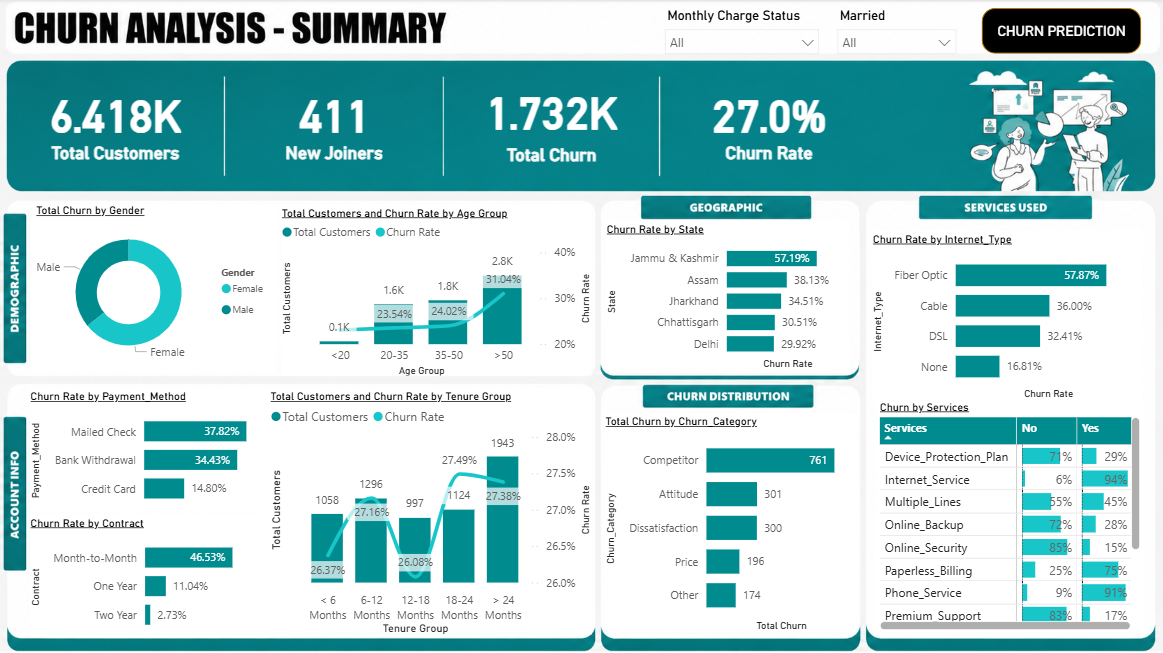

Layout of this report page (visuals, bound fields, positions):
{"tool":"powerbi","page":{"name":"Summary","canvas":[1280,720],"ordinal":0},"visuals":[{"type":"image","box":[113,316,66,56],"z":0},{"type":"cardVisual","fields":{"Data":["tbl_Measures.Total Customers"]},"box":[17,66,225,150],"z":1000},{"type":"cardVisual","fields":{"Data":["tbl_Measures.New Joiners"]},"box":[257,66,225,150],"z":2000},{"type":"cardVisual","fields":{"Data":["tbl_Measures.Total Churn"]},"box":[496,66,225,150],"z":3000},{"type":"cardVisual","fields":{"Data":["tbl_Measures.Churn Rate"]},"box":[734,66,225,150],"z":4000},{"type":"donutChart","fields":{"Category":["prod_Churn.Gender"],"Y":["tbl_Measures.Total Churn"]},"box":[37,226.4,269,185],"z":5000},{"type":"lineStackedColumnComboChart","fields":{"Category":["mapping_Agegrp.Age Group"],"Y":["tbl_Measures.Total Customers"],"Y2":["tbl_Measures.Churn Rate"]},"box":[311.5,226,340.3,188],"z":6000},{"type":"clusteredBarChart","fields":{"Category":["prod_Churn.Payment_Method"],"Y":["tbl_Measures.Churn Rate"]},"box":[35,428,263.3,135],"z":7000},{"type":"clusteredBarChart","fields":{"Category":["prod_Churn.Contract"],"Y":["tbl_Measures.Churn Rate"]},"box":[35,567,263.3,135],"z":8000},{"type":"lineStackedColumnComboChart","fields":{"Category":["mapping_TenureGrp.Tenure Group"],"Y":["tbl_Measures.Total Customers"],"Y2":["tbl_Measures.Churn Rate"]},"box":[299.1,428.1,352.7,270.3],"z":9000},{"type":"barChart","fields":{"Category":["prod_Churn.State"],"Y":["tbl_Measures.Churn Rate"]},"box":[668.3,244.3,266.2,163.3],"z":10000},{"type":"clusteredBarChart","fields":{"Category":["prod_Churn.Churn_Category"],"Y":["tbl_Measures.Total Churn"]},"box":[667,455.6,275.8,238.8],"z":11000},{"type":"barChart","fields":{"Category":["prod_Churn.Internet_Type"],"Y":["tbl_Measures.Churn Rate"]},"box":[960.6,255.2,295,185.2],"z":12000},{"type":"pivotTable","title":"Churn by Services","fields":{"Rows":["prod_services.Services"],"Columns":["prod_services.Status"],"Values":["Sum(prod_services.Churn_Status)"]},"box":[963,442,295,256.7],"z":13000},{"type":"slicer","fields":{"Values":["prod_Churn.Monthly Charge Status"]},"box":[722.1,6,189.6,64.7],"z":14000},{"type":"slicer","fields":{"Values":["prod_Churn.Married"]},"box":[911.7,6,150.4,63.2],"z":15000},{"type":"shape","box":[1080,10.5,175,50],"z":16000}]}

Visuals, with their boxes in screenshot pixels (x1, y1, x2, y2), scaled from the page's 1280x720 canvas onto the 1163x653 screenshot:
image: x1=103 y1=287 x2=163 y2=337
cardVisual - tbl_Measures.Total Customers: x1=15 y1=60 x2=220 y2=196
cardVisual - tbl_Measures.New Joiners: x1=234 y1=60 x2=438 y2=196
cardVisual - tbl_Measures.Total Churn: x1=451 y1=60 x2=655 y2=196
cardVisual - tbl_Measures.Churn Rate: x1=667 y1=60 x2=871 y2=196
donutChart - prod_Churn.Gender x tbl_Measures.Total Churn: x1=34 y1=205 x2=278 y2=373
lineStackedColumnComboChart - mapping_Agegrp.Age Group x tbl_Measures.Total Customers: x1=283 y1=205 x2=592 y2=375
clusteredBarChart - prod_Churn.Payment_Method x tbl_Measures.Churn Rate: x1=32 y1=388 x2=271 y2=511
clusteredBarChart - prod_Churn.Contract x tbl_Measures.Churn Rate: x1=32 y1=514 x2=271 y2=637
lineStackedColumnComboChart - mapping_TenureGrp.Tenure Group x tbl_Measures.Total Customers: x1=272 y1=388 x2=592 y2=633
barChart - prod_Churn.State x tbl_Measures.Churn Rate: x1=607 y1=222 x2=849 y2=370
clusteredBarChart - prod_Churn.Churn_Category x tbl_Measures.Total Churn: x1=606 y1=413 x2=857 y2=630
barChart - prod_Churn.Internet_Type x tbl_Measures.Churn Rate: x1=873 y1=231 x2=1141 y2=399
"Churn by Services" pivotTable: x1=875 y1=401 x2=1143 y2=634
slicer - prod_Churn.Monthly Charge Status: x1=656 y1=5 x2=828 y2=64
slicer - prod_Churn.Married: x1=828 y1=5 x2=965 y2=63
shape: x1=981 y1=10 x2=1140 y2=55
